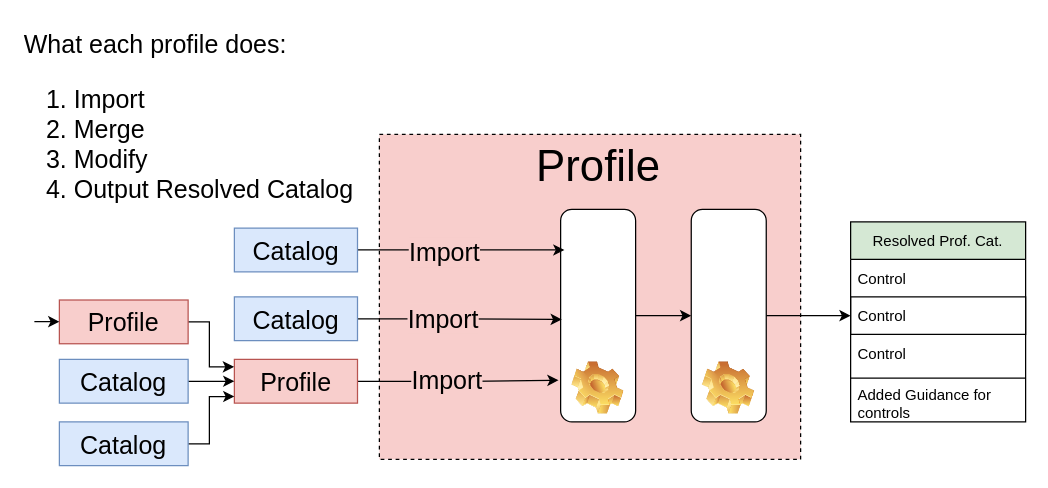
Some shapes in this 1048 by 488 pixel diagram are drawn without their labels. The shapes that lost their labels are listed below. From the top down, each one's centre as x and y in pixels, then its label:
At (x=597, y=315): "Merge".
At (x=728, y=315): "Modify".
